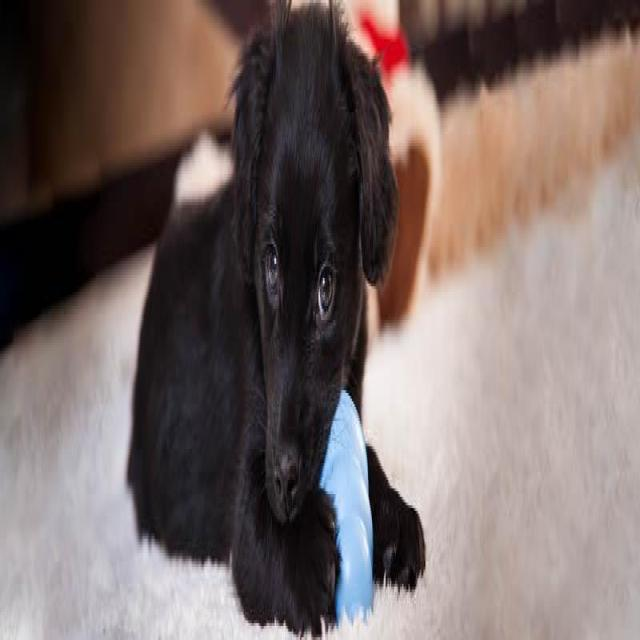dog: (143, 0, 444, 637)
